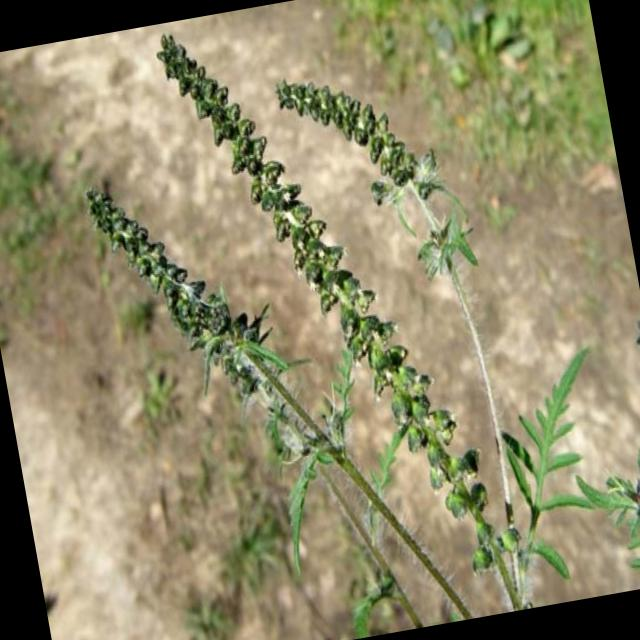ambrosia: (290, 218, 467, 537), (61, 158, 233, 410), (144, 14, 274, 214), (270, 52, 421, 215)
